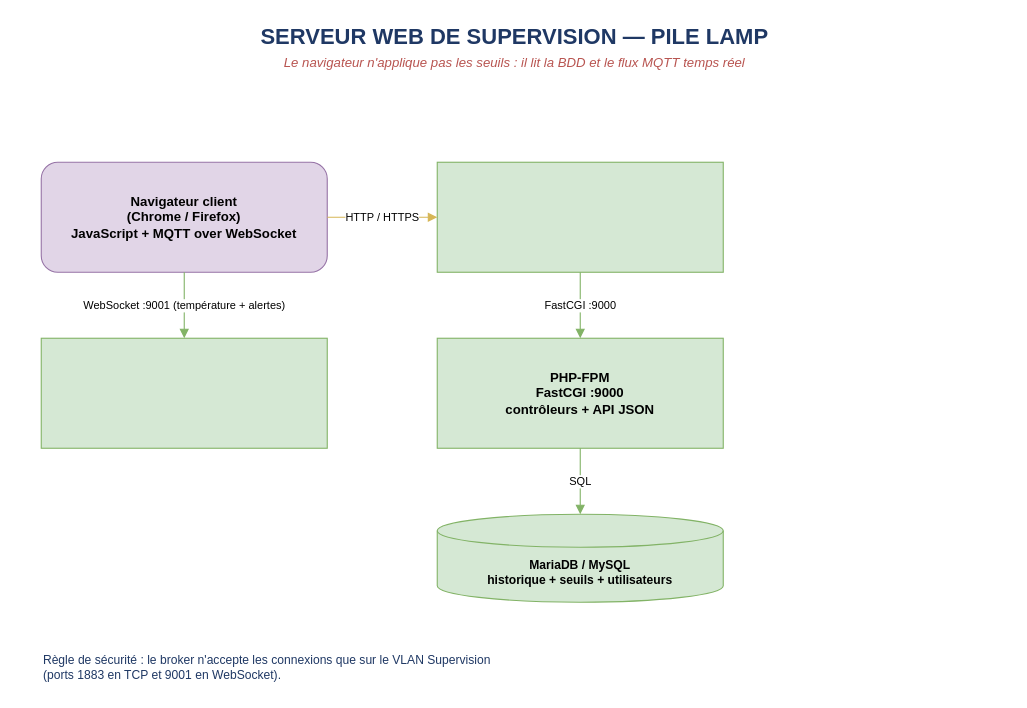
Image size: 1027x708. Some labels were removed from this diagram. The box of each missing label's shape, as (x1, y1, x2, y2) in pixels:
Apache2 HTTP :80 / HTTPS :443 TLS + authentification: (436, 161, 723, 272)
Broker MQTT Mosquitto WebSocket :9001: (40, 337, 327, 448)
